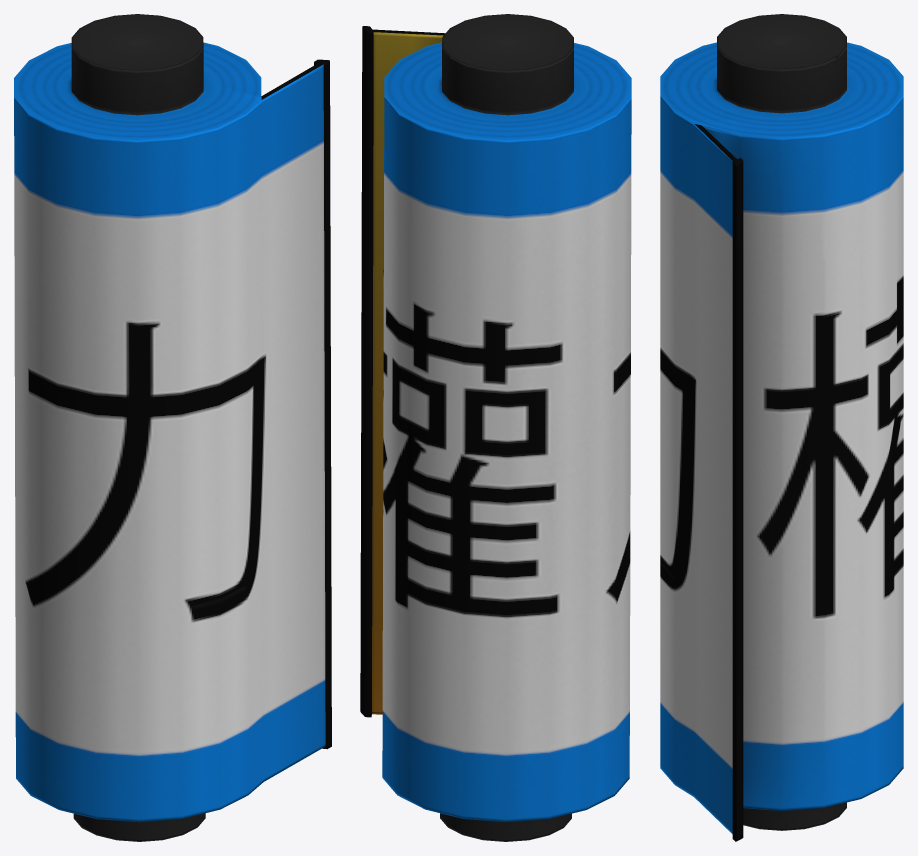
The model's file is Scrool.fbx.
3 views of the same model, side by side, from view 1: azimuth 30°, elevation 25°; view 2: azimuth 150°, elevation 25°; view 3: azimuth 270°, elevation 25° (orthographic).
Visible parts, largest first — view 1: scrool; view 2: scrool; view 3: scrool.
Part boxes in pixels (<box>): scrool: <box>14,14,331,841</box>; scrool: <box>360,14,631,841</box>; scrool: <box>660,14,903,841</box>.
Bounding box in the file's own units: 2.57 × 6.79 × 1.97.
